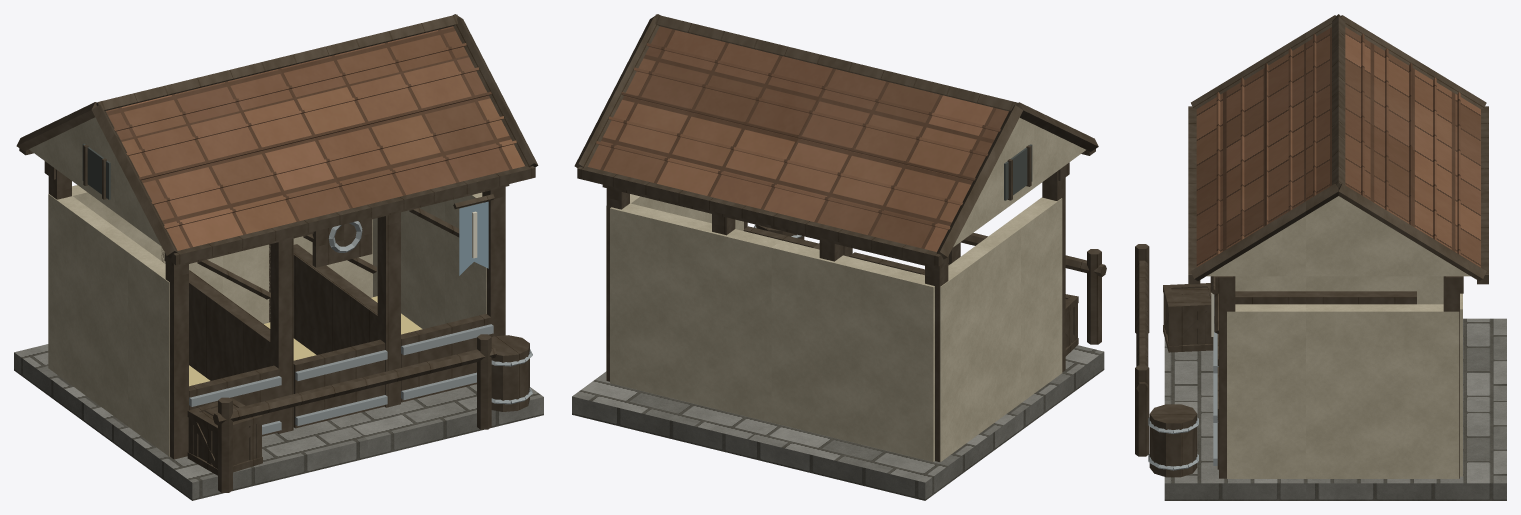
File: stable.gltf
3 renders of one model, left to right at view 1: azimuth 30°, elevation 25°; view 2: azimuth 150°, elevation 25°; view 3: azimuth 270°, elevation 25°, orthographic. The views are drawn at different scales.
Visible parts, largest first — view 1: AdvancedBuilding_stable; view 2: AdvancedBuilding_stable; view 3: AdvancedBuilding_stable.
Part boxes in pixels (x1,y1,x2,y2): AdvancedBuilding_stable: (14, 14, 543, 500); AdvancedBuilding_stable: (572, 14, 1106, 500); AdvancedBuilding_stable: (1135, 14, 1506, 500).
Bounding box in the file's own units: 2.77 × 2.38 × 2.5.
Materials: 6 (4 with a texture image).
